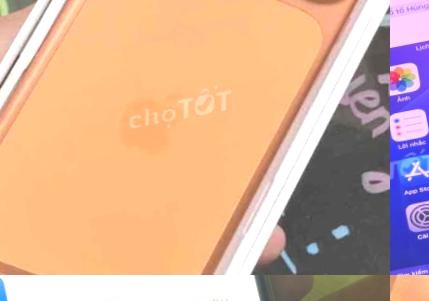screen_defect: (414, 0, 429, 30)
